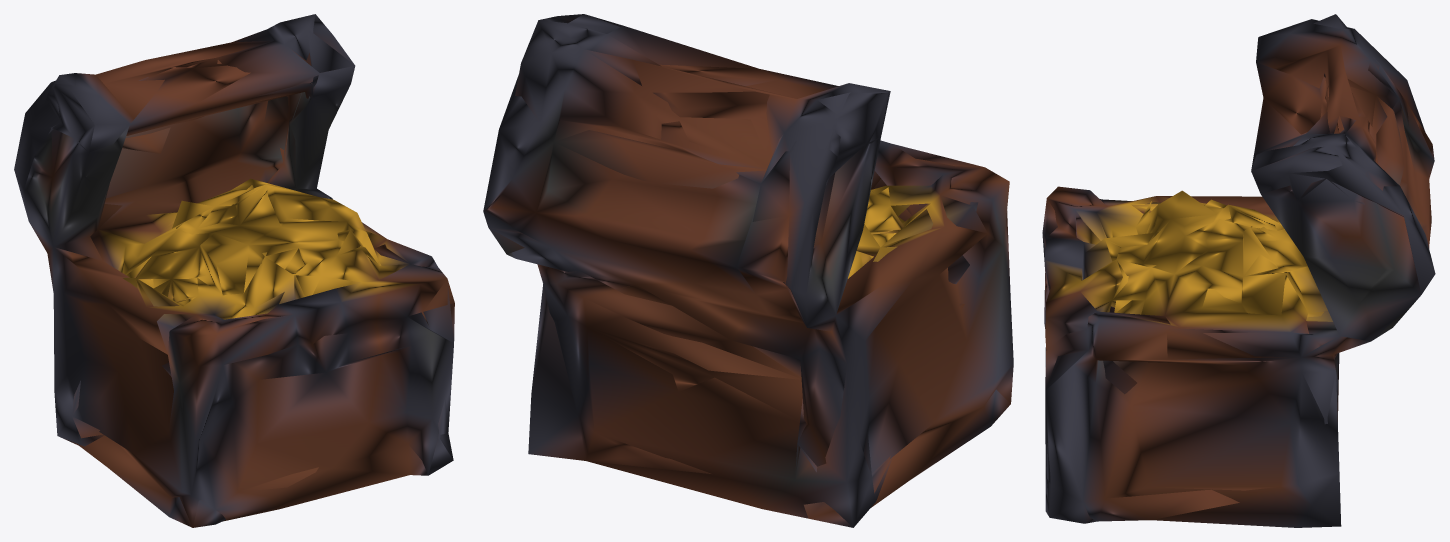
File: gen3d-treasure-chest-lod0.glb
3 views of the same model, side by side, from view 1: azimuth 30°, elevation 25°; view 2: azimuth 150°, elevation 25°; view 3: azimuth 270°, elevation 25° (orthographic). The views are drawn at different scales.
Visible parts, largest first — view 1: part_0; view 2: part_0; view 3: part_0.
Part boxes in pixels (left/top/right/bottom): part_0: left=14, top=14, right=454, bottom=527; part_0: left=483, top=14, right=1013, bottom=527; part_0: left=1042, top=14, right=1435, bottom=527.
Bounding box in the file's own units: 0.7693 × 0.9861 × 0.9242.
